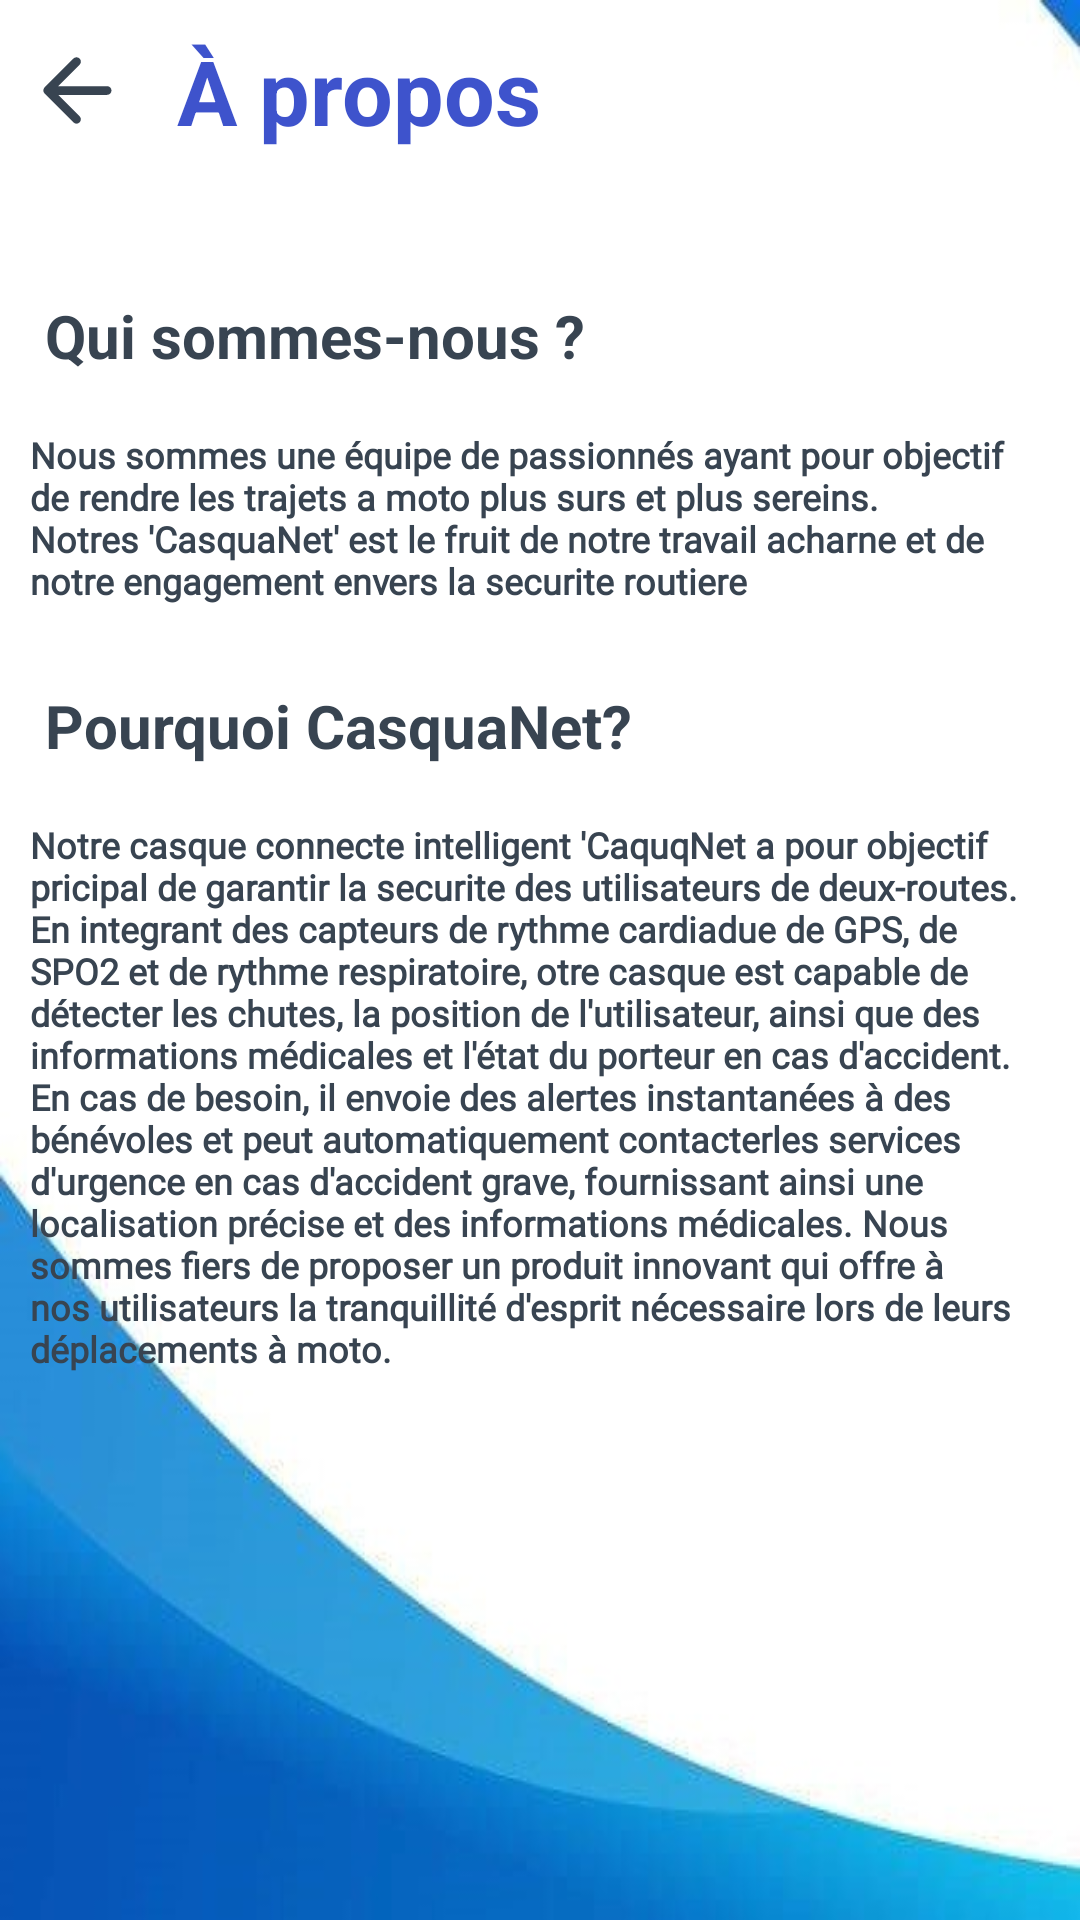

Where to tap for icons on this 1080x1920 app screen, as point (x, y):
back: point (77, 90)
